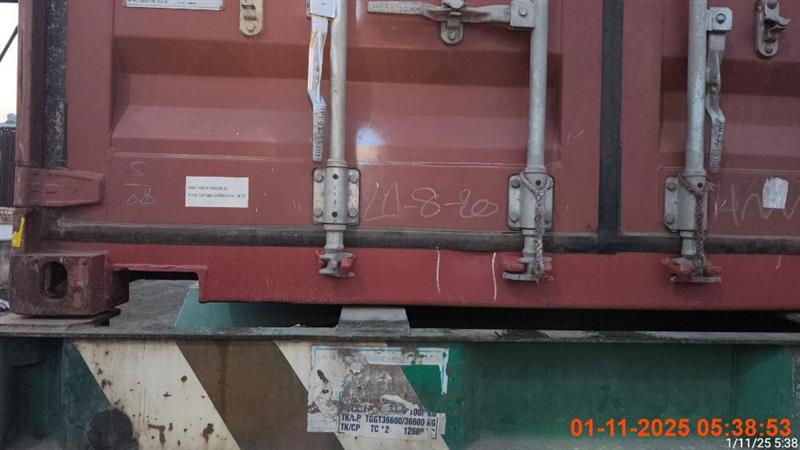dent: (4, 2, 797, 322)
